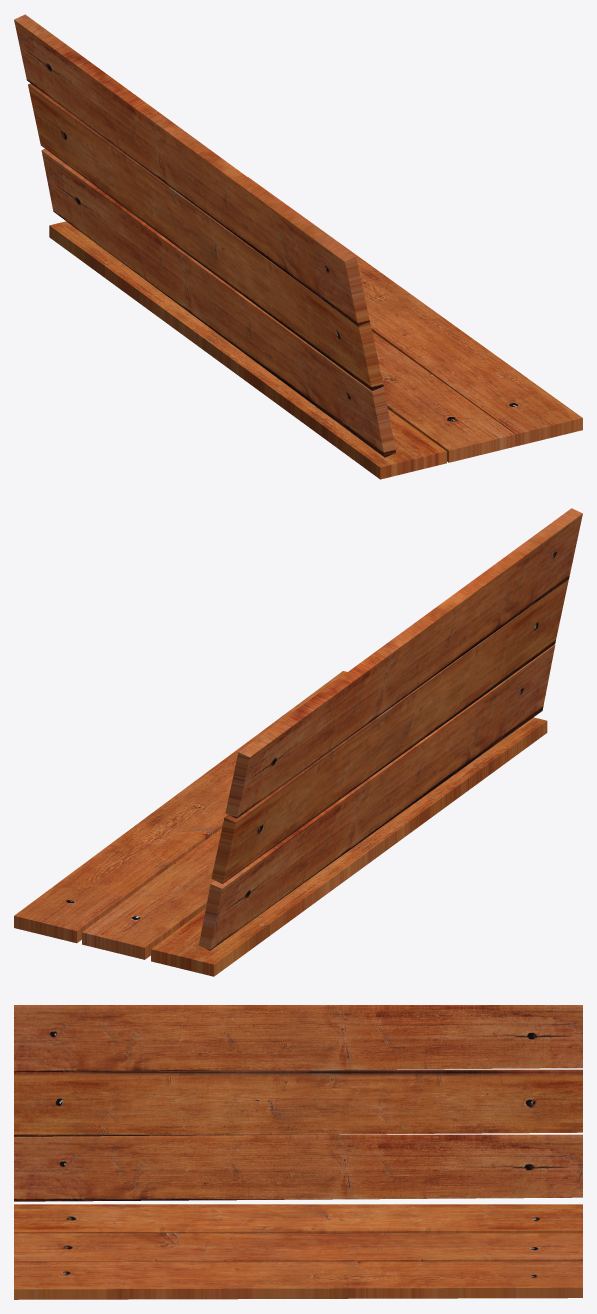
File: banco_daPraca_madeira_TEXTURIZADA.fbx
3 renders of one model, top to bottom at view 1: azimuth 30°, elevation 25°; view 2: azimuth 150°, elevation 25°; view 3: azimuth 270°, elevation 25°, orthographic. The views are drawn at different scales.
Parts seen in each view (by area): view 1: madeira LP; view 2: madeira LP; view 3: madeira LP.
Boxes of the visible parts, x1,y1,x2,y2 form: madeira LP: [14, 14, 582, 479]; madeira LP: [14, 508, 582, 976]; madeira LP: [14, 1005, 582, 1299].
Size of the model in its own units: 65.26 by 59.94 by 157.
Materials: 1 (1 with a texture image).
